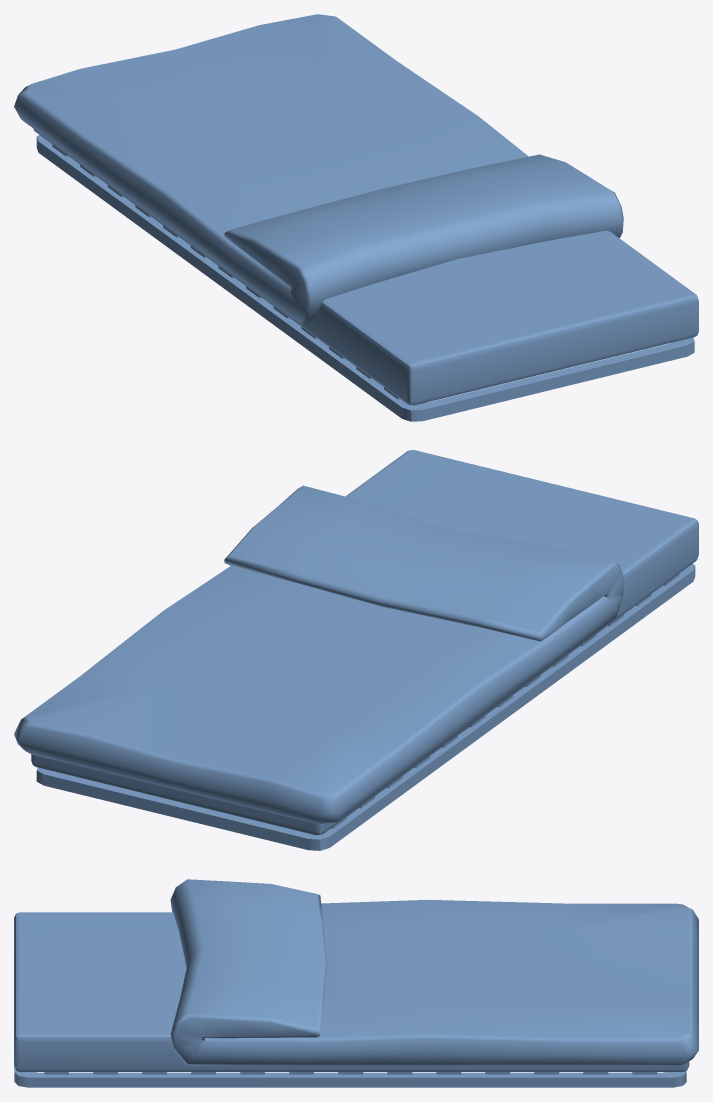
The model's file is SM_Room_Matress.fbx.
The picture shows the model from 3 angles, top to bottom: view 1: azimuth 30°, elevation 25°; view 2: azimuth 150°, elevation 25°; view 3: azimuth 270°, elevation 25°; orthographic projection. The views are drawn at different scales.
Parts seen in each view (by area): view 1: Bed_couette; view 2: Bed_couette; view 3: Bed_couette.
Part boxes in pixels (bbox=[...]): Bed_couette: bbox=[14, 14, 698, 421]; Bed_couette: bbox=[14, 450, 698, 850]; Bed_couette: bbox=[14, 879, 698, 1087].
Bounding box in the file's own units: 0.753 × 0.2046 × 1.55.
